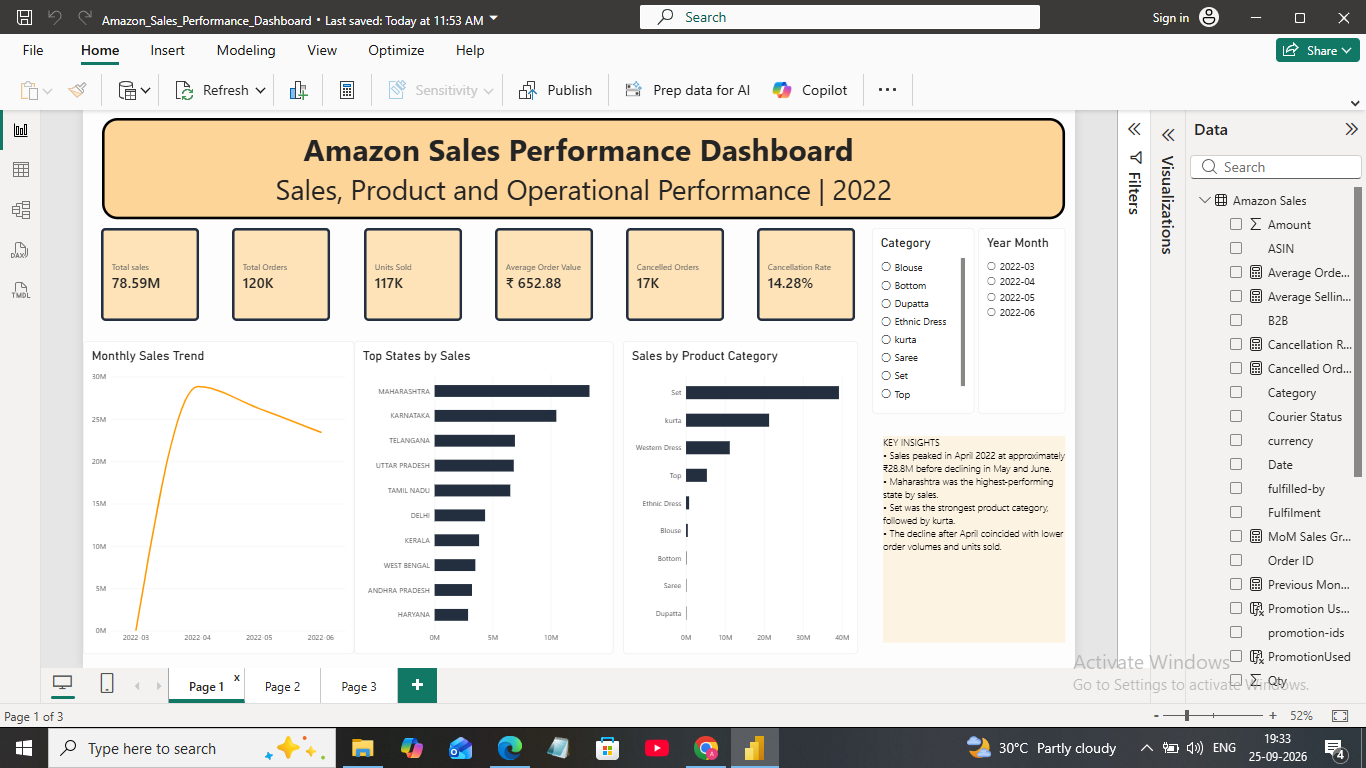

This screenshot's page, from the dashboard's own definition file:
{"tool":"powerbi","page":{"name":"Page 1","canvas":[1920,1080],"ordinal":0},"visuals":[{"type":"cardVisual","title":"Total Sales ","fields":{"Data":["Amazon Sales.Total sales"]},"box":[35.1,227.5,190,180],"z":0},{"type":"lineChart","title":"Monthly Sales Trend","fields":{"Category":["Calendar.Year Month"],"Y":["Amazon Sales.Total sales"]},"box":[0.4,446.8,525.1,605.9],"z":1000},{"type":"clusteredBarChart","title":"Sales by Product Category","fields":{"Y":["Amazon Sales.Total sales"],"Category":["Amazon Sales.Category"]},"box":[1046,446.5,455,605.9],"z":2000},{"type":"clusteredBarChart","title":"Top States by Sales","fields":{"Y":["Amazon Sales.Total sales"],"Category":["Amazon Sales.ship-state"]},"box":[525.1,446.5,501.7,605.9],"z":3000},{"type":"textbox","box":[36.1,14.9,1864.5,195.6],"z":4000},{"type":"cardVisual","fields":{"Data":["Amazon Sales.Total Orders"]},"box":[289.1,227.5,190,180],"z":5000},{"type":"cardVisual","fields":{"Data":["Amazon Sales.Units Sold"]},"box":[543.2,227.5,190,180],"z":6000},{"type":"cardVisual","fields":{"Data":["Amazon Sales.Average Order Value"]},"box":[797.3,227.5,190,180],"z":7000},{"type":"cardVisual","fields":{"Data":["Amazon Sales.Cancelled Orders"]},"box":[1051.3,227.5,190,180],"z":8000},{"type":"cardVisual","fields":{"Data":["Amazon Sales.Cancellation Rate"]},"box":[1305.4,227.5,190,180],"z":9000},{"type":"listSlicer","fields":{"Values":["Calendar.Year Month"]},"box":[1732.7,227.5,169.3,359.2],"z":10000},{"type":"listSlicer","fields":{"Values":["Amazon Sales.Category"]},"box":[1526.5,227.5,197.7,359.3],"z":11000},{"type":"textbox","box":[1547.7,631.4,352.9,399.7],"z":12000}]}

Visuals, with their boxes on the page's 1920x1080 design canvas (x1, y1, x2, y2). These are canvas units, not pixel positions in the 1366x768 screenshot, which may show the page scaled, cropped or inside an application window:
"Total Sales " cardVisual: bbox=(35, 228, 225, 408)
"Monthly Sales Trend" lineChart: bbox=(0, 447, 526, 1053)
"Sales by Product Category" clusteredBarChart: bbox=(1046, 446, 1501, 1052)
"Top States by Sales" clusteredBarChart: bbox=(525, 446, 1027, 1052)
textbox: bbox=(36, 15, 1901, 210)
cardVisual - Amazon Sales.Total Orders: bbox=(289, 228, 479, 408)
cardVisual - Amazon Sales.Units Sold: bbox=(543, 228, 733, 408)
cardVisual - Amazon Sales.Average Order Value: bbox=(797, 228, 987, 408)
cardVisual - Amazon Sales.Cancelled Orders: bbox=(1051, 228, 1241, 408)
cardVisual - Amazon Sales.Cancellation Rate: bbox=(1305, 228, 1495, 408)
listSlicer - Calendar.Year Month: bbox=(1733, 228, 1902, 587)
listSlicer - Amazon Sales.Category: bbox=(1526, 228, 1724, 587)
textbox: bbox=(1548, 631, 1901, 1031)
